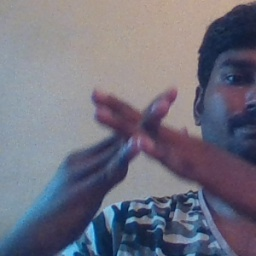W: (60, 69, 214, 200)
